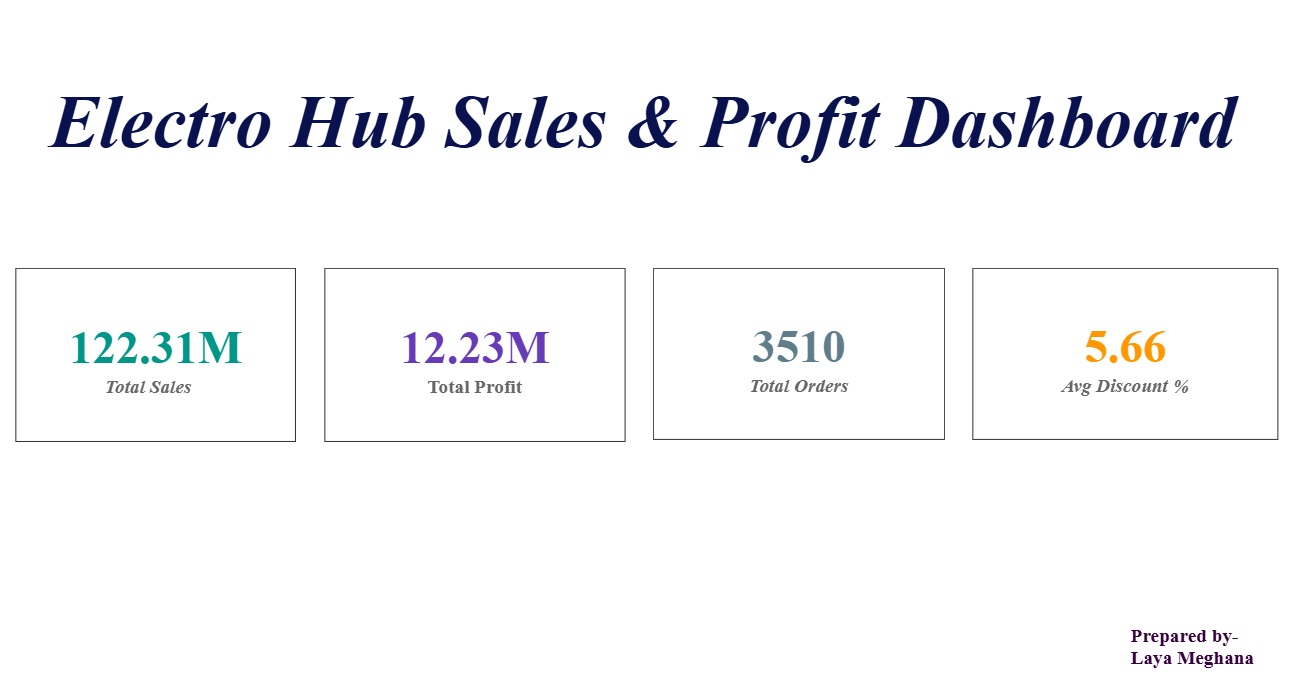

The page's visual inventory and layout, read from the dashboard file:
{"tool":"powerbi","page":{"name":"Overview","canvas":[1280,720],"ordinal":0},"visuals":[{"type":"textbox","box":[10,88.3,1270,128.3],"z":0},{"type":"card","fields":{"Values":["Count(Fact Table.Order ID)"]},"box":[646.1,276.7,283.3,166.7],"z":1000},{"type":"card","fields":{"Values":["Sum(Fact Table.Profit)"]},"box":[327.2,276.7,291.7,168.3],"z":2000},{"type":"card","fields":{"Values":["Avg(Fact Table.Discount Percentage)"]},"box":[956.7,276.7,296.7,166.7],"z":3000},{"type":"card","fields":{"Values":["Sum(Fact Table.Net Sales   )"]},"box":[28.3,276.7,271.7,168.3],"z":4000},{"type":"textbox","box":[1105,616.7,148.3,83.3],"z":6000}]}

Visuals, with their boxes on the page's 1280x720 design canvas (x1, y1, x2, y2). These are canvas units, not pixel positions in the 1297x694 screenshot, which may show the page scaled, cropped or inside an application window:
textbox: x1=10 y1=88 x2=1280 y2=217
card - Count(Fact Table.Order ID): x1=646 y1=277 x2=929 y2=443
card - Sum(Fact Table.Profit): x1=327 y1=277 x2=619 y2=445
card - Avg(Fact Table.Discount Percentage): x1=957 y1=277 x2=1253 y2=443
card - Sum(Fact Table.Net Sales   ): x1=28 y1=277 x2=300 y2=445
textbox: x1=1105 y1=617 x2=1253 y2=700
